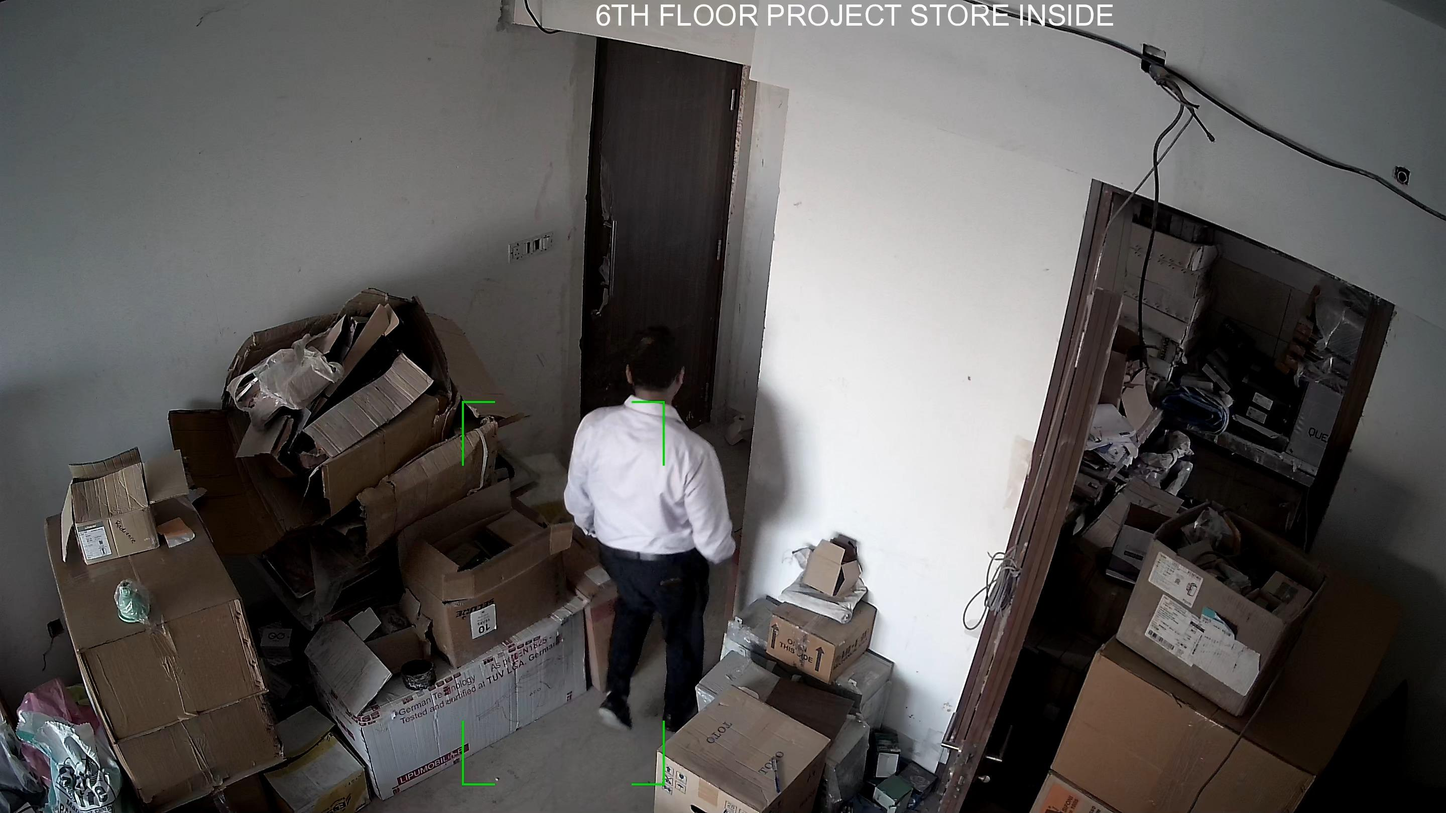Door-Close: (562, 36, 753, 474)
